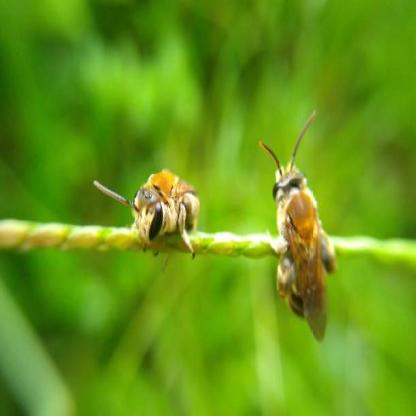sawfly: (258, 109, 342, 342), (89, 167, 209, 262)
